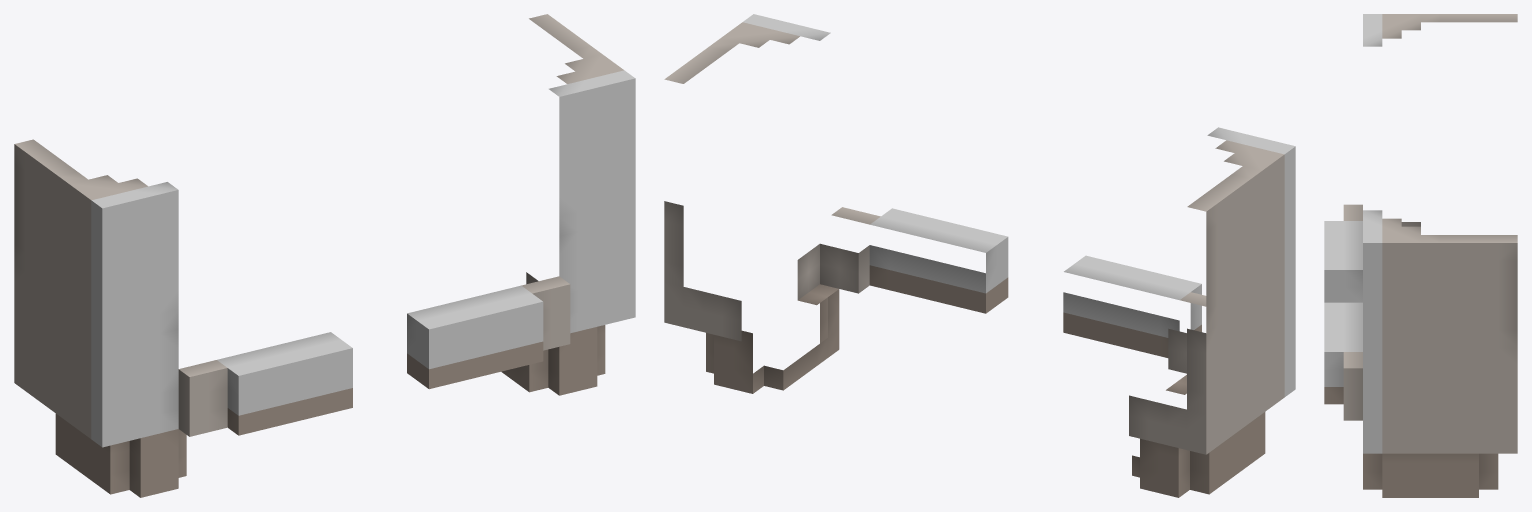
File: beard_mutton_chops.glb
The picture shows the model from 3 angles, left to right: view 1: azimuth 30°, elevation 25°; view 2: azimuth 150°, elevation 25°; view 3: azimuth 270°, elevation 25°; orthographic projection. The views are drawn at different scales.
Parts seen in each view (by area): view 1: VoxelVisual; view 2: VoxelVisual; view 3: VoxelVisual.
Boxes of the visible parts, <box> form: VoxelVisual: <box>14,14,635,497</box>; VoxelVisual: <box>664,14,1295,497</box>; VoxelVisual: <box>1324,14,1517,497</box>.
Size of what is drawn, in the model's own units: 1.75 by 0.9375 by 0.625.
